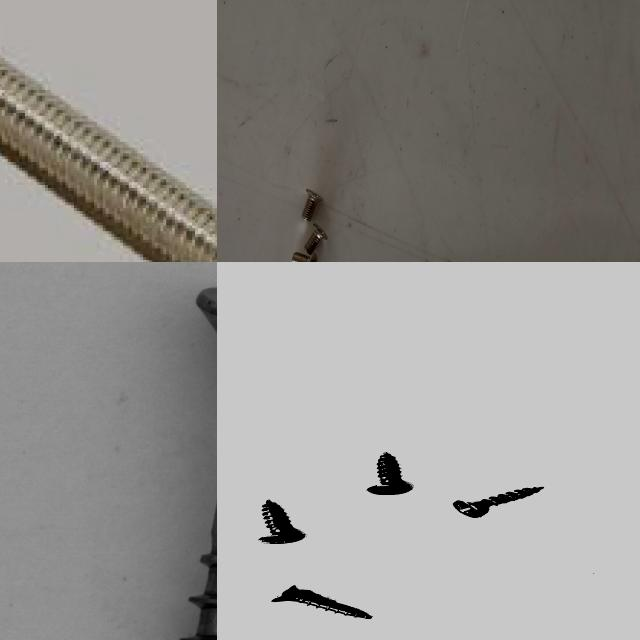Screw: (0, 56, 217, 262), (155, 272, 217, 640), (270, 586, 371, 619), (452, 486, 544, 518), (258, 500, 304, 544), (366, 452, 413, 495), (300, 185, 323, 226), (304, 222, 330, 258), (289, 249, 320, 262)
